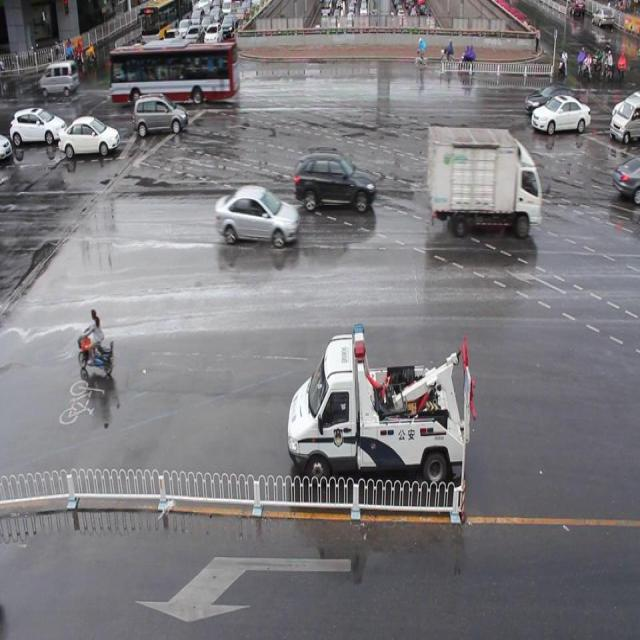bus: (286, 320, 475, 486), (427, 124, 540, 235)
car: (294, 148, 376, 212), (215, 185, 297, 246), (58, 113, 120, 157), (531, 92, 590, 132), (134, 96, 188, 134), (525, 82, 582, 114), (610, 155, 640, 201)
truck: (608, 93, 640, 143)
van: (110, 44, 240, 102)
